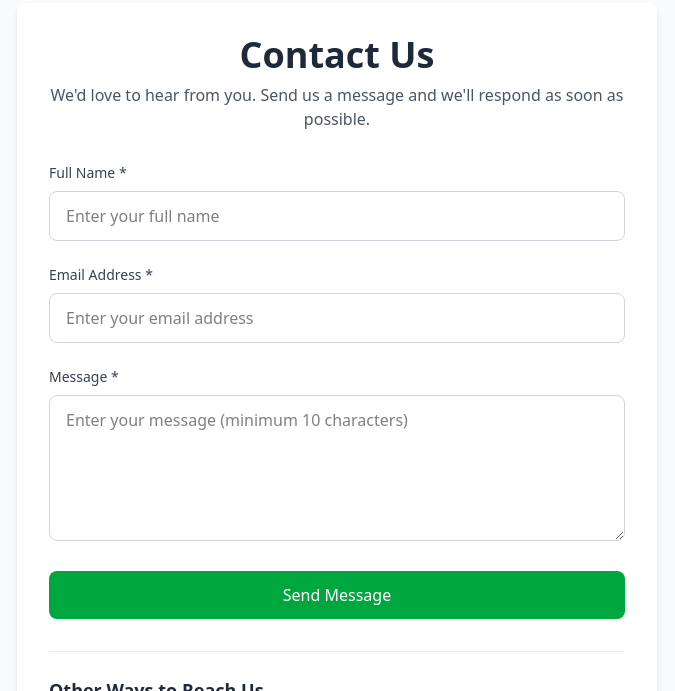
Test: Contact Component › should clear validation errors when user starts typing
// First, trigger validation error
Click the button "Send Message". click: x=337, y=595
box: [49,571,625,619]
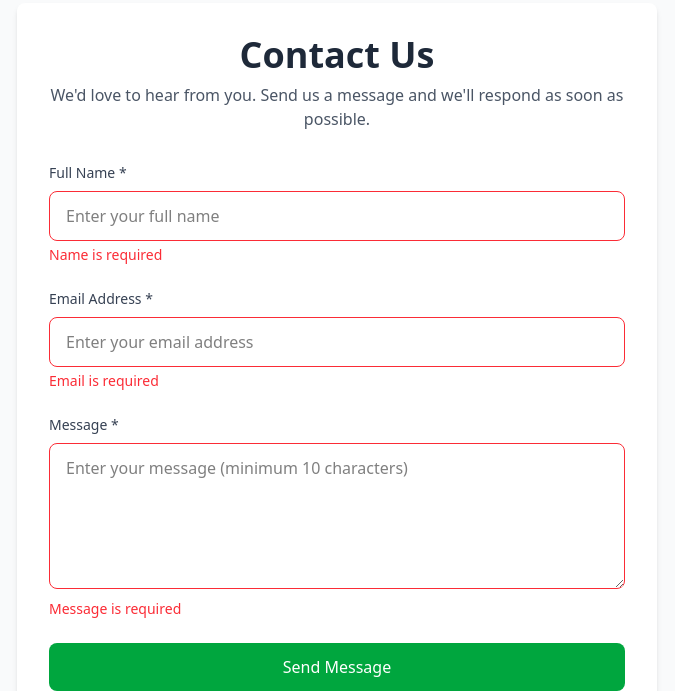
Check: the text "Name is required" is shown, box [49,245,162,264]
// Then type in the field
Type "John" into the field labelled "Full Name *". click: x=337, y=216
box: [49,191,625,241]
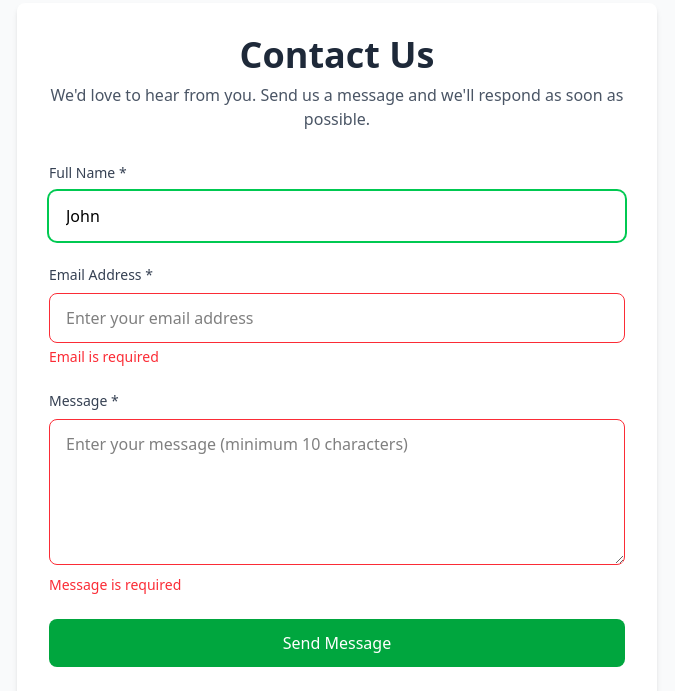
Check: the text "Name is required" is gone
